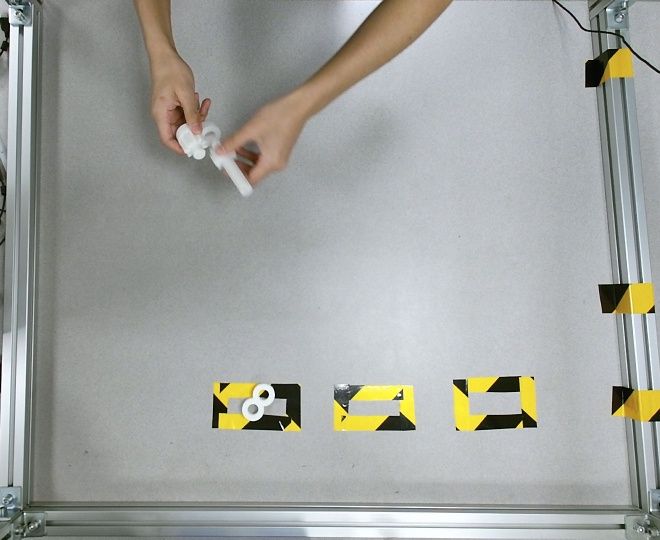stage_2: (176, 119, 224, 160)
